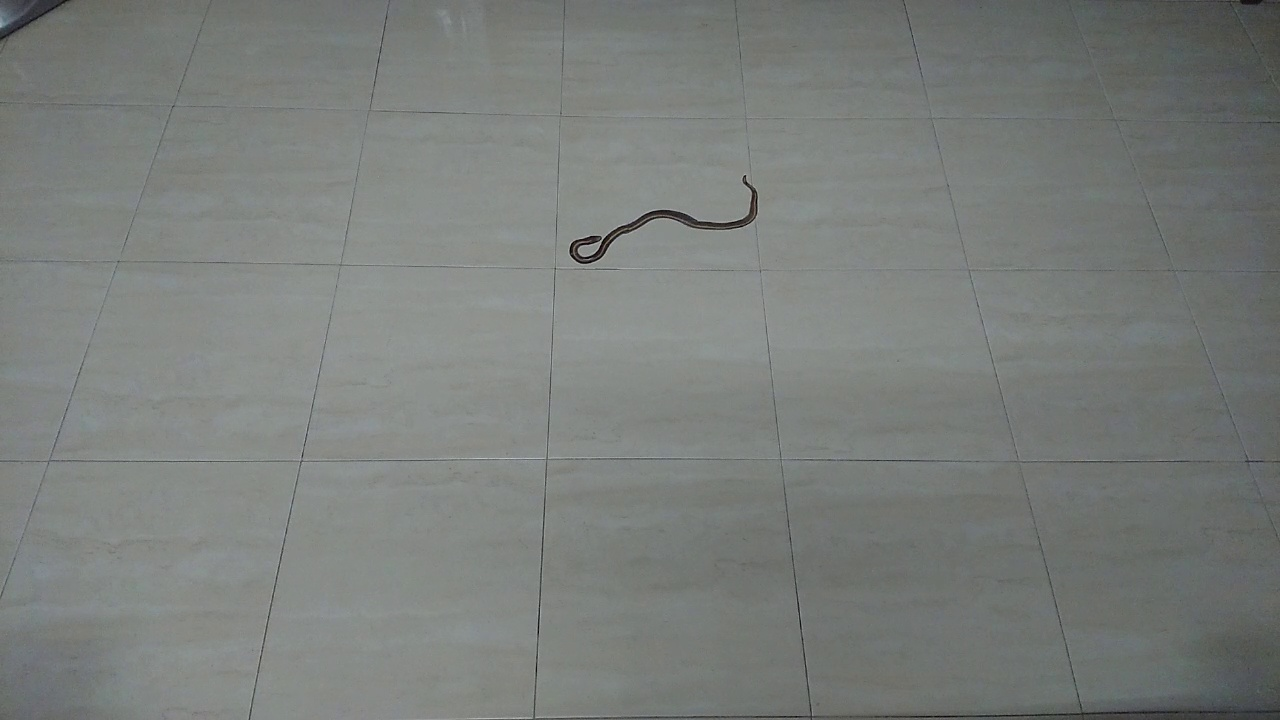snake: (552, 165, 769, 274)
